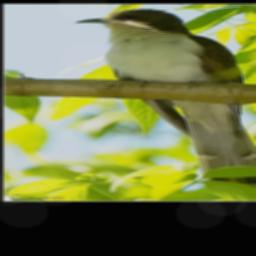Cuckoo: (74, 8, 256, 198)
